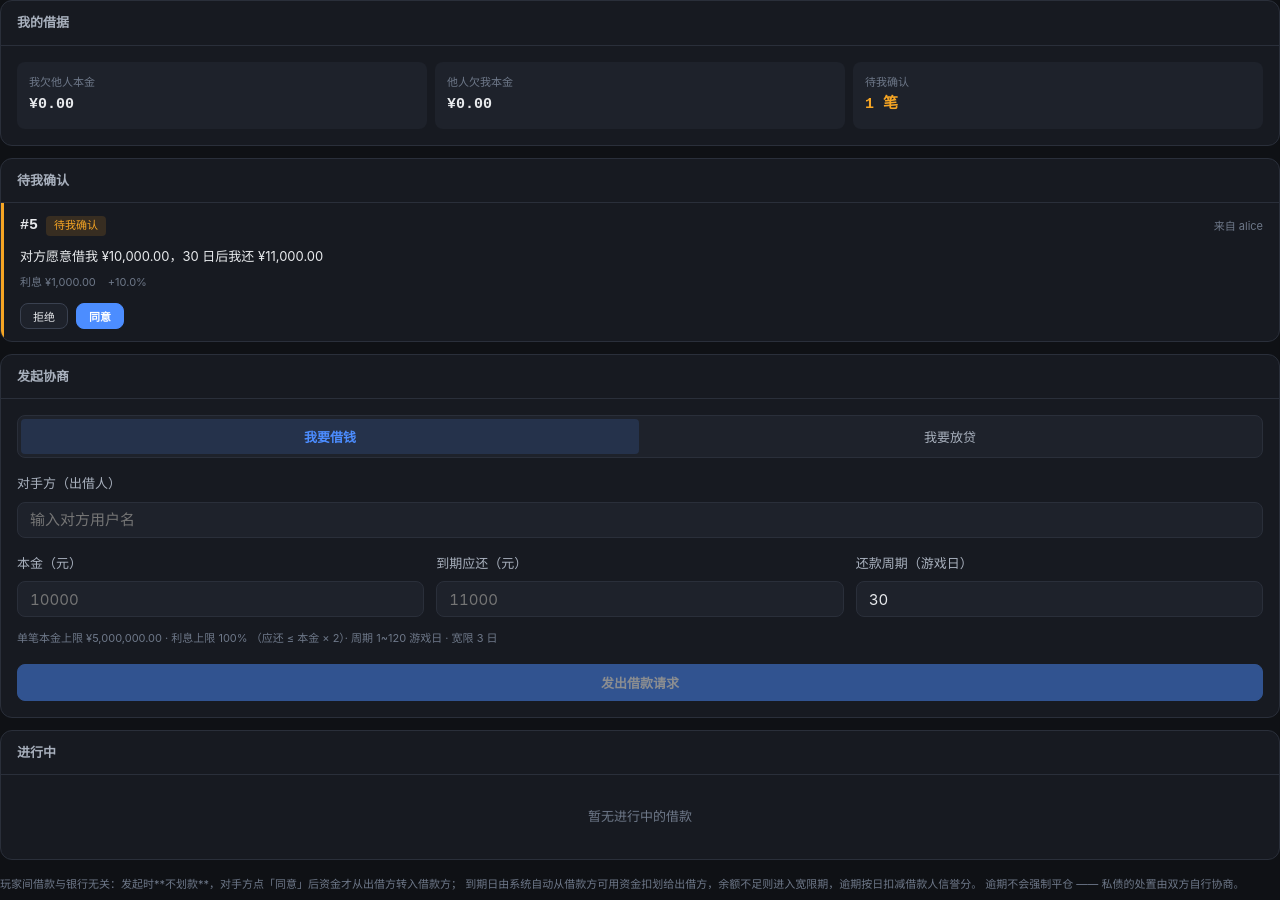
Scenario: P2p 待我确认的文案 › ⚠️ accept 失败（出借方余额已不足）映射成中文，不回显错误码
Click the button with test id "p2p-accept" at (100, 316), box [76,303,124,329]
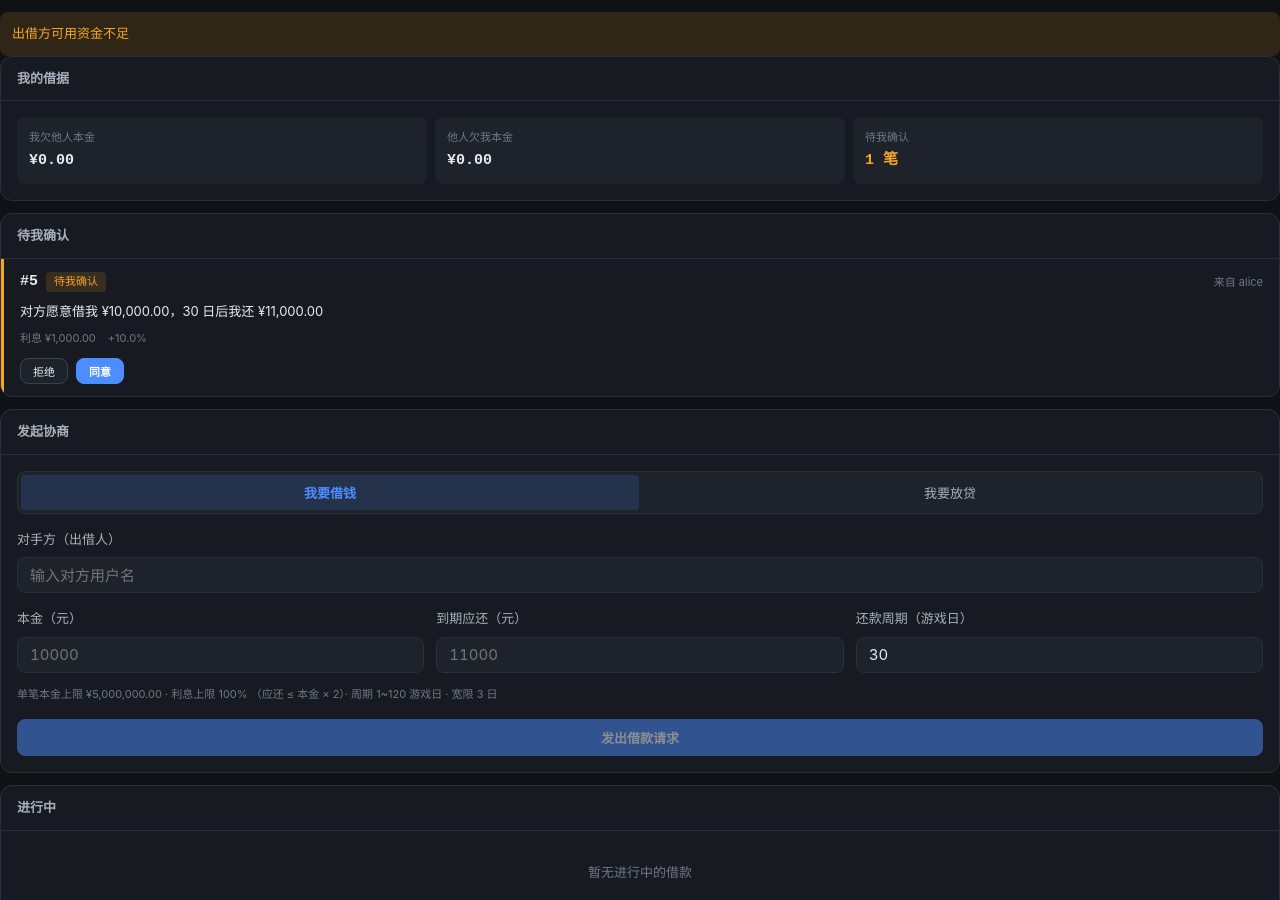
expect the message reads "出借方可用资金不足": met, box [12,25,129,41]
